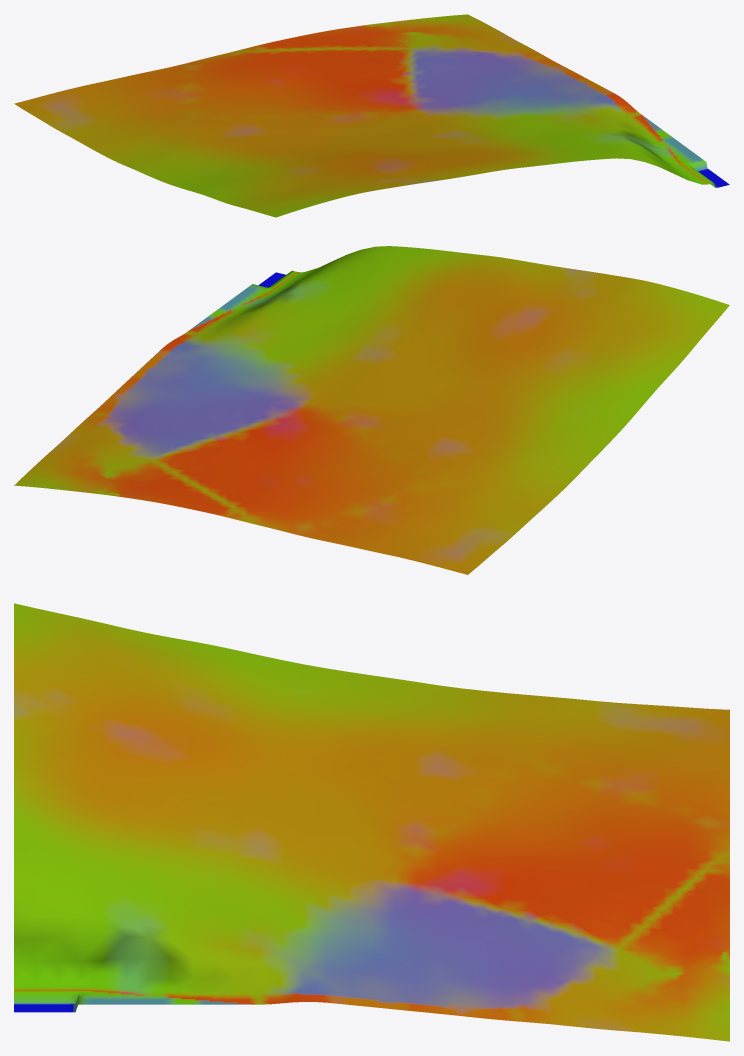
File: SM_BM_BT_Terrain_1_1.glb
3 renders of one model, top to bottom at view 1: azimuth 30°, elevation 25°; view 2: azimuth 150°, elevation 25°; view 3: azimuth 270°, elevation 25°, orthographic. The views are drawn at different scales.
Visible parts, largest first — view 1: SM_BM_BT_Terrain_1_1; view 2: SM_BM_BT_Terrain_1_1; view 3: SM_BM_BT_Terrain_1_1.
Part boxes in pixels (box(x1,y1,x2,y2)): SM_BM_BT_Terrain_1_1: box(14, 14, 729, 217); SM_BM_BT_Terrain_1_1: box(14, 246, 729, 574); SM_BM_BT_Terrain_1_1: box(14, 603, 729, 1041).
Size of the model in its own units: 256 by 55.63 by 256.
